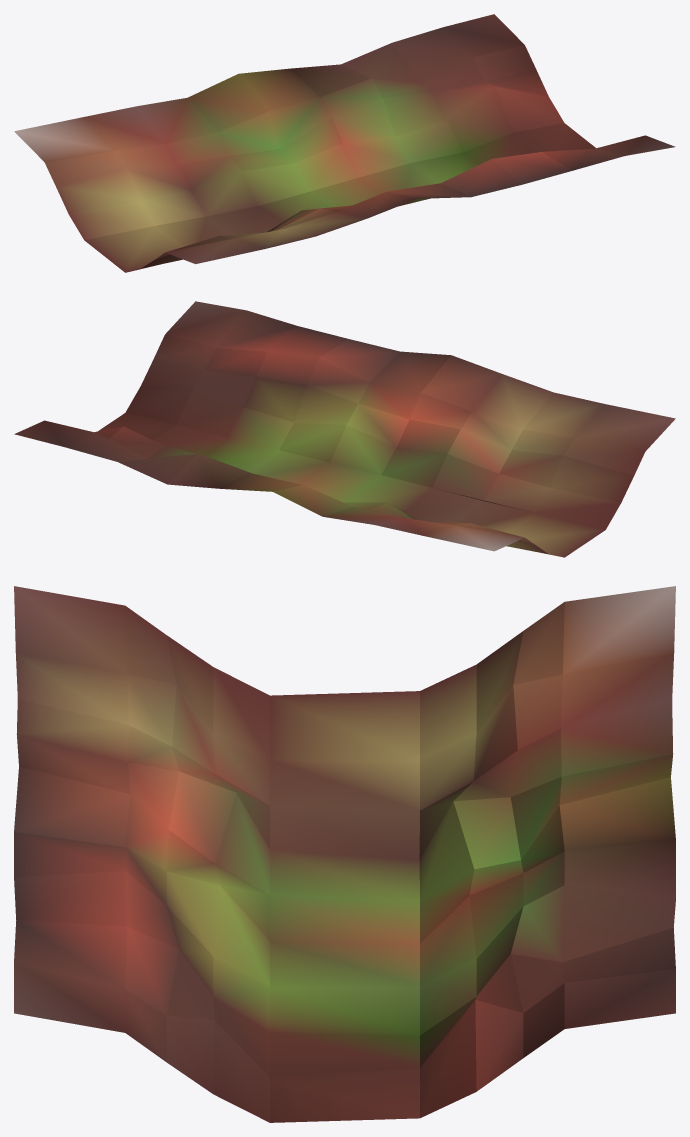
The model's file is terrain.fbx.
3 renders of one model, top to bottom at view 1: azimuth 30°, elevation 25°; view 2: azimuth 150°, elevation 25°; view 3: azimuth 270°, elevation 25°, orthographic. The views are drawn at different scales.
Parts seen in each view (by area): view 1: Plane; view 2: Plane; view 3: Plane.
Boxes of the visible parts, box(x1,y1,x2,y2) form: Plane: box(14, 14, 675, 272); Plane: box(14, 301, 675, 557); Plane: box(14, 586, 675, 1122).
Size of the model in its own units: 1348 by 203 by 883.
